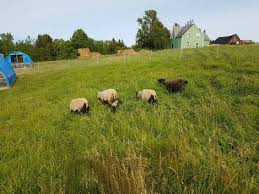sheep: (159, 76, 191, 95), (95, 88, 117, 112), (135, 89, 162, 108), (67, 97, 89, 113)
